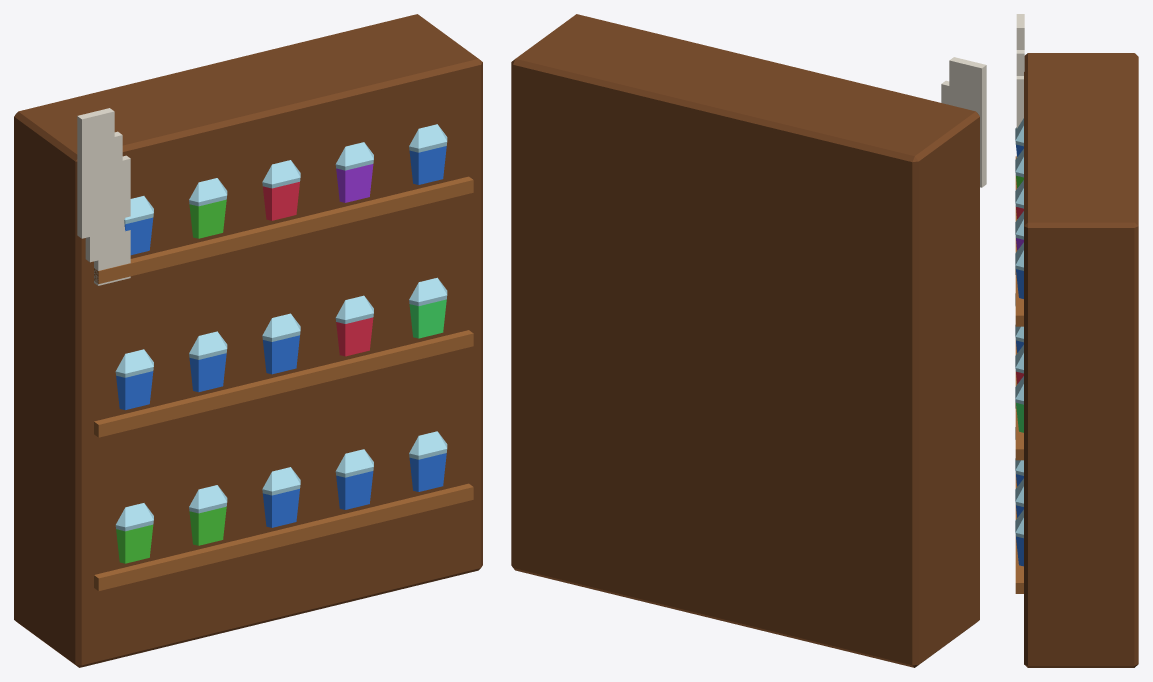
Rendered from PotionShelf.fbx.
3 views of the same model, side by side, from view 1: azimuth 30°, elevation 25°; view 2: azimuth 150°, elevation 25°; view 3: azimuth 270°, elevation 25° (orthographic). The views are drawn at different scales.
Parts seen in each view (by area): view 1: PotionShelf; view 2: PotionShelf; view 3: PotionShelf.
Part boxes in pixels (x1,y1,x2,y2): PotionShelf: (14,14,482,667); PotionShelf: (511,14,986,667); PotionShelf: (1015,14,1138,667).
Bounding box in the file's own units: 5 × 6.5 × 1.5.
1 material, 1 textured.
